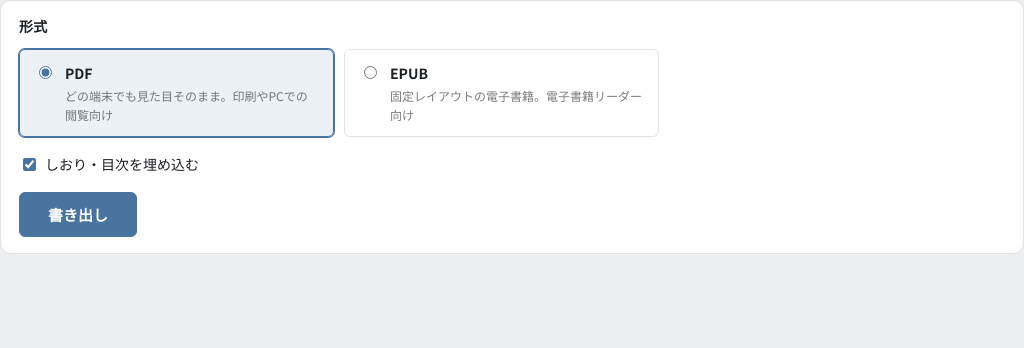
Test: ExportPanel › hides the download button when the embed option changes after exporting
Click the button "書き出し": (78, 214) [19, 192, 137, 237]
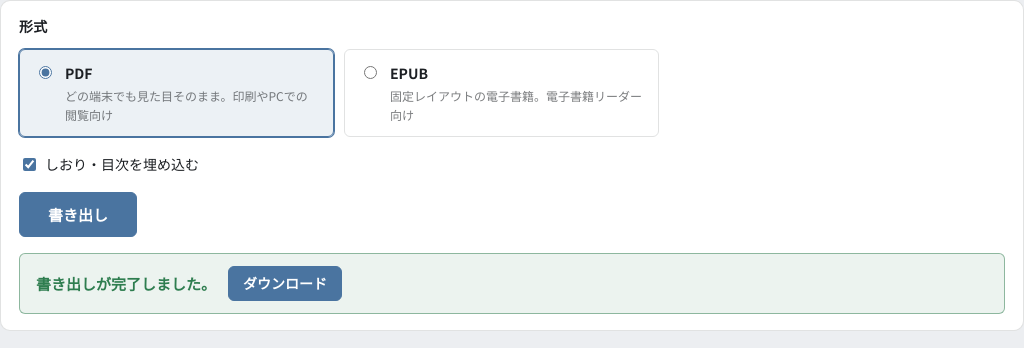
Check: the button "ダウンロード" is shown, box [228, 266, 342, 301]
Click the checkbox labelled "しおり・目次を埋め込む": (30, 164) [23, 158, 36, 171]
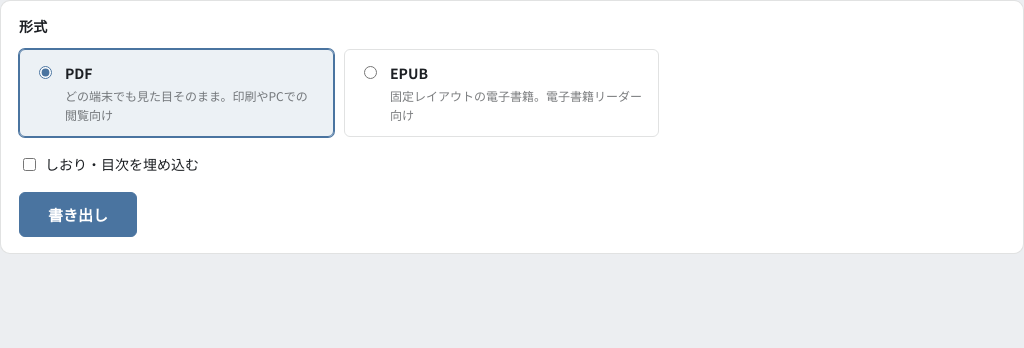
Check: the button "ダウンロード" is gone
